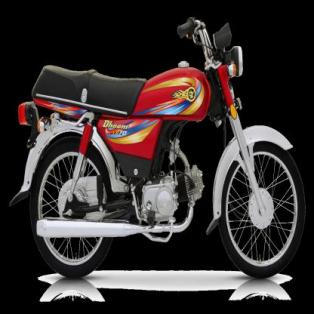Motocicleta: (11, 6, 308, 282)
